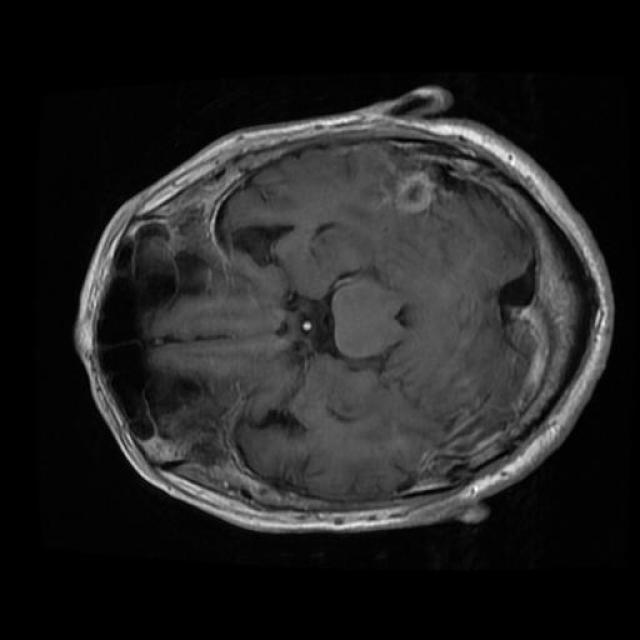Glioma: (393, 171, 435, 213)
